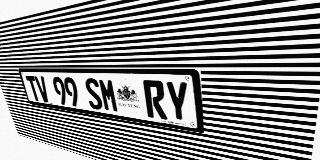9: (62, 77, 81, 107), (51, 77, 69, 105)
M: (98, 78, 119, 113)
R: (143, 80, 168, 120)
S: (83, 78, 104, 110)
T: (25, 76, 41, 101)
V: (34, 76, 51, 103)
Y: (164, 81, 191, 123)
